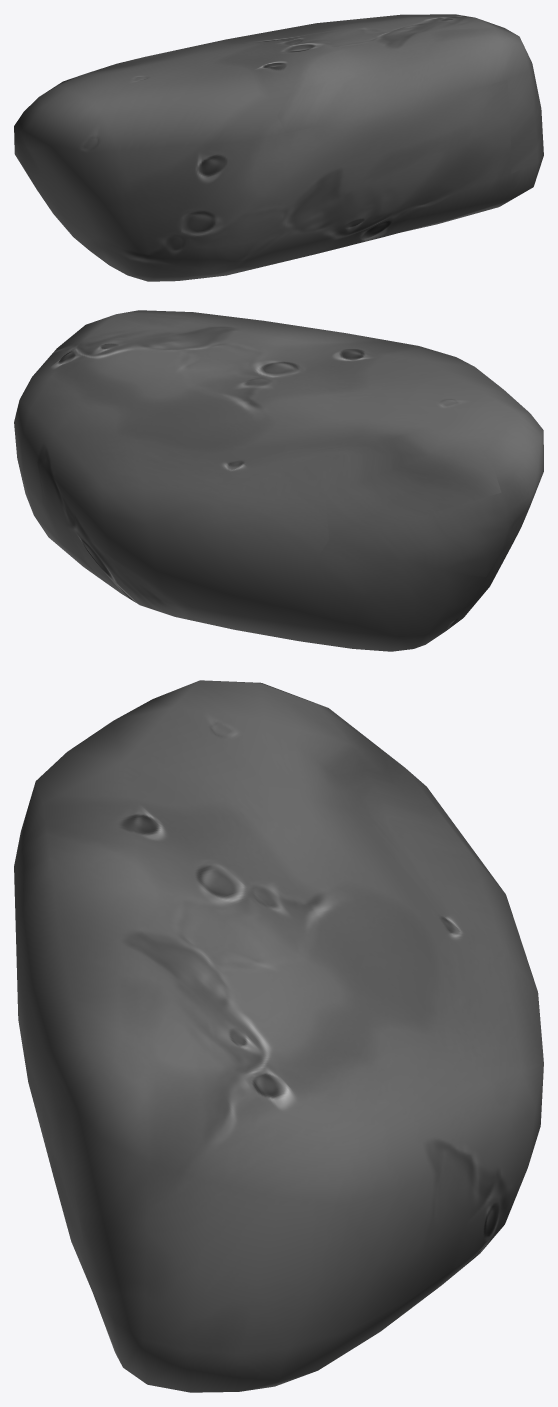
Rendered from SM_ENV_stone_05.fbx.
The picture shows the model from 3 angles, top to bottom: view 1: azimuth 30°, elevation 25°; view 2: azimuth 150°, elevation 25°; view 3: azimuth 270°, elevation 25°; orthographic projection. The views are drawn at different scales.
Visible parts, largest first — view 1: SM_ENV_stone_05_LOD0; view 2: SM_ENV_stone_05_LOD0; view 3: SM_ENV_stone_05_LOD0.
Part boxes in pixels (x1,y1,x2,y2): SM_ENV_stone_05_LOD0: (14,14,543,281); SM_ENV_stone_05_LOD0: (14,310,543,651); SM_ENV_stone_05_LOD0: (14,680,543,1392).
Size of what is drawn, in the model's own units: 266 by 112 by 141.
